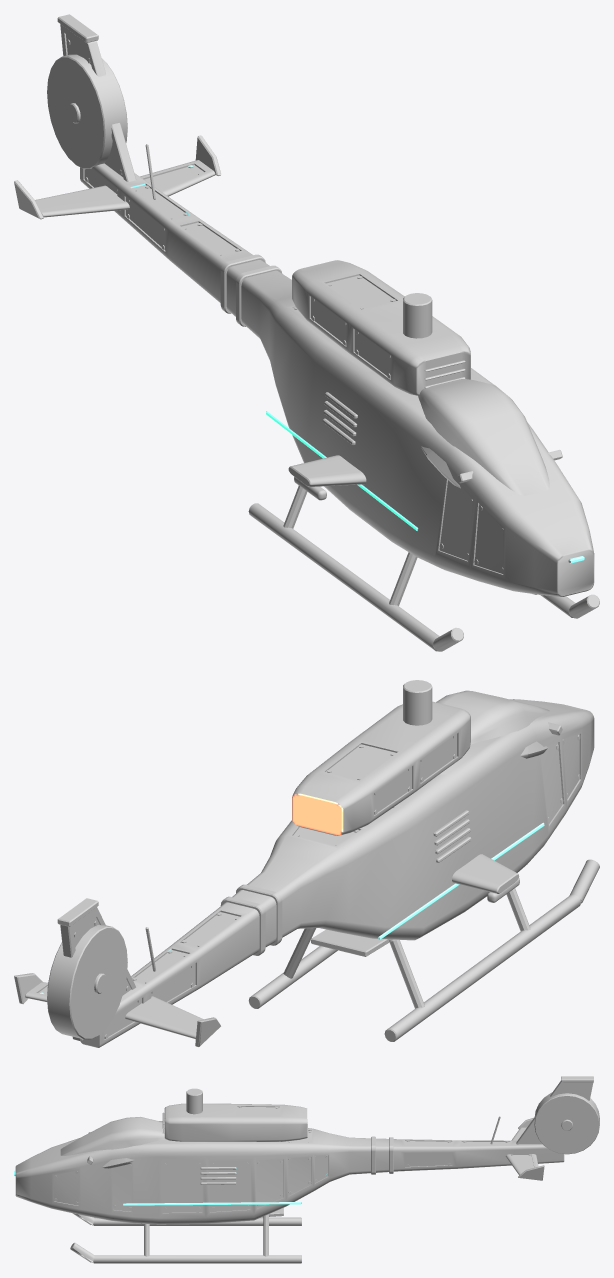
File: Chassis_Scout.fbx
3 views of the same model, one above another, from view 1: azimuth 30°, elevation 25°; view 2: azimuth 150°, elevation 25°; view 3: azimuth 270°, elevation 25° (orthographic). The views are drawn at different scales.
Visible parts, largest first — view 1: Chassis_Scout; view 2: Chassis_Scout; view 3: Chassis_Scout.
Boxes of the visible parts, x1,y1,x2,y2 form: Chassis_Scout: (14,14,599,651); Chassis_Scout: (14,680,599,1047); Chassis_Scout: (14,1076,599,1263).
Bounding box in the file's own units: 2.17 × 3.08 × 9.83.
